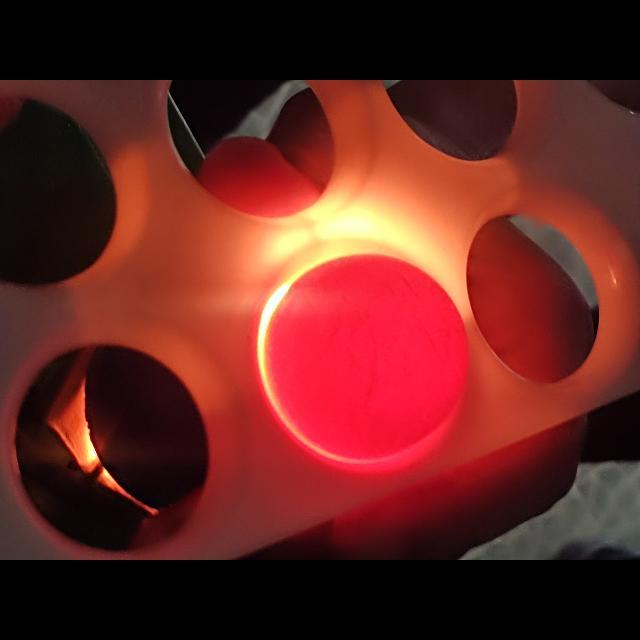Infertile: (268, 248, 467, 466)
